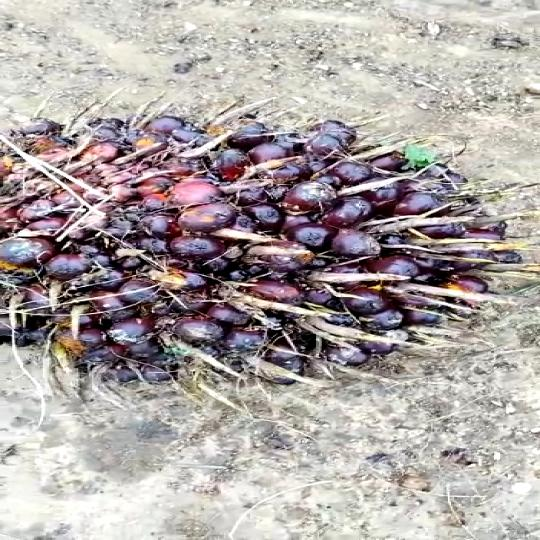kurang masak: (0, 94, 540, 396)
